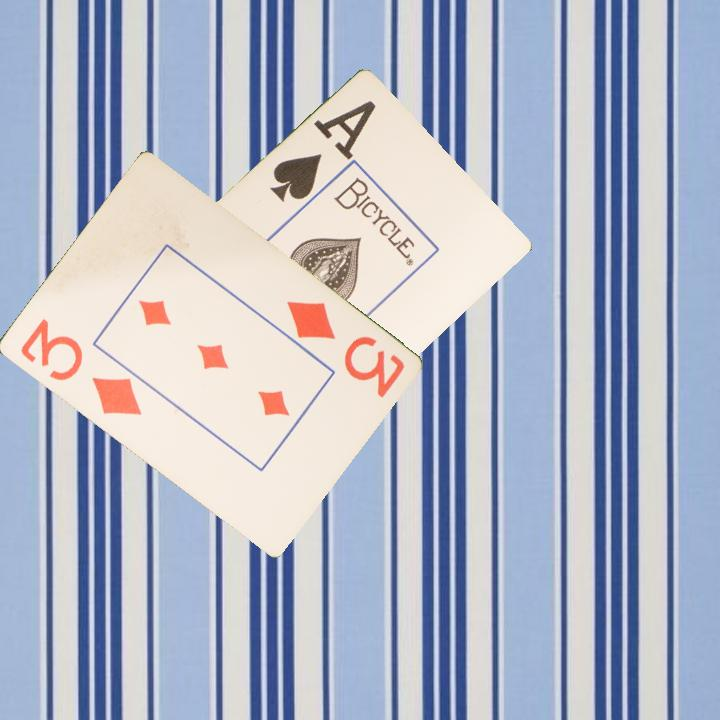3d: (16, 315, 145, 419), (282, 297, 407, 401)
As: (266, 97, 379, 206)
